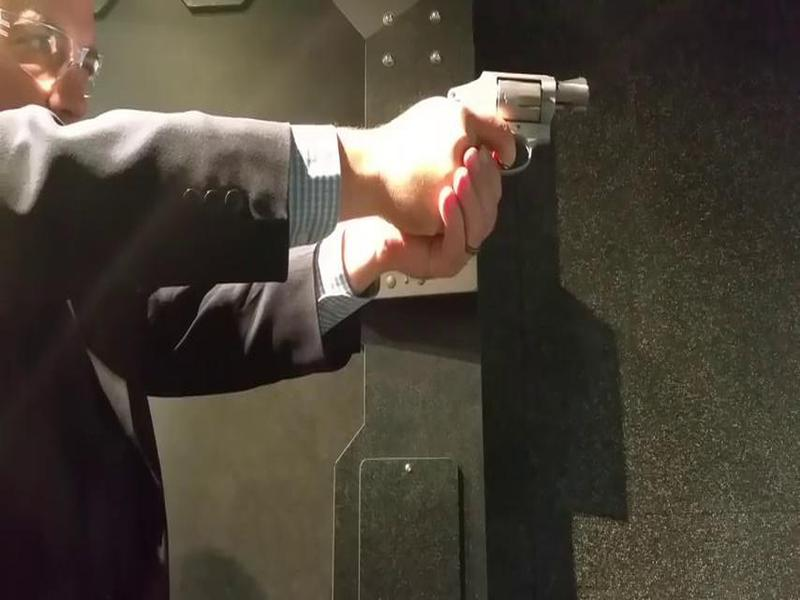Revolver: (427, 35, 598, 190)
